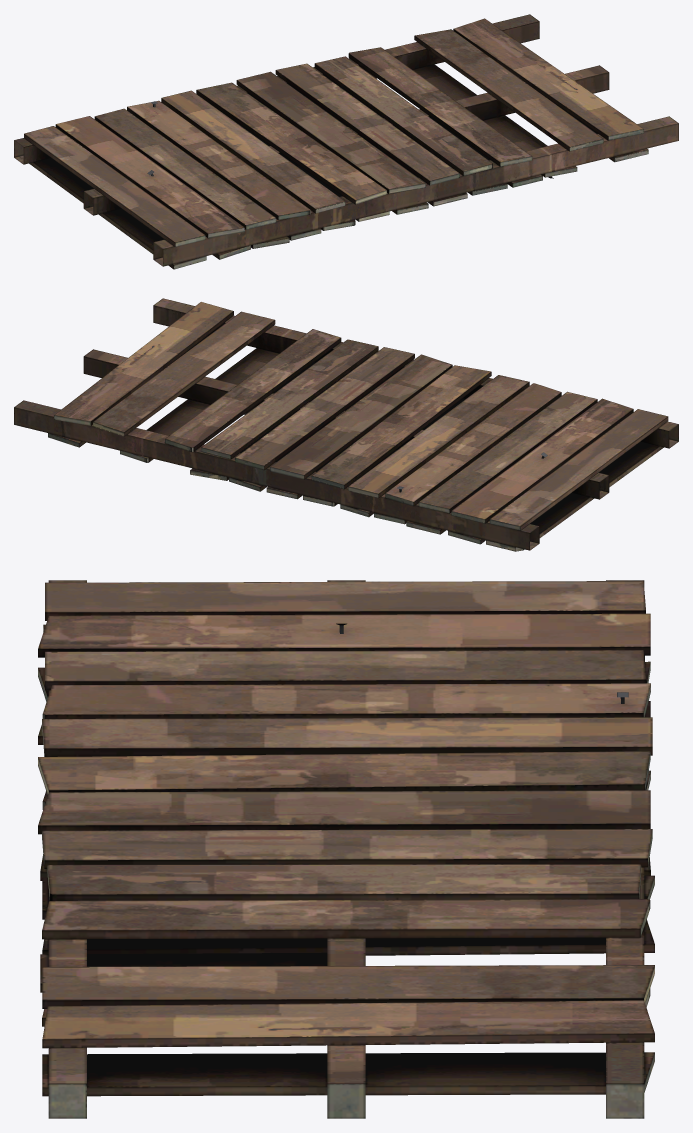
Rendered from WoodWallFence.FBX.
The picture shows the model from 3 angles, top to bottom: view 1: azimuth 30°, elevation 25°; view 2: azimuth 150°, elevation 25°; view 3: azimuth 270°, elevation 25°; orthographic projection. The views are drawn at different scales.
Parts seen in each view (by area): view 1: WoodWallFence; view 2: WoodWallFence; view 3: WoodWallFence.
Part boxes in pixels (x1,y1,x2,y2): WoodWallFence: (14,14,678,269); WoodWallFence: (14,298,678,551); WoodWallFence: (38,580,654,1118).
Size of the model in its own units: 131 by 9.17 by 67.81.
